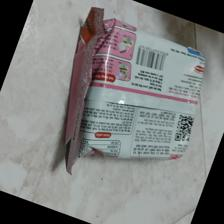Haohao: (58, 4, 209, 176)
